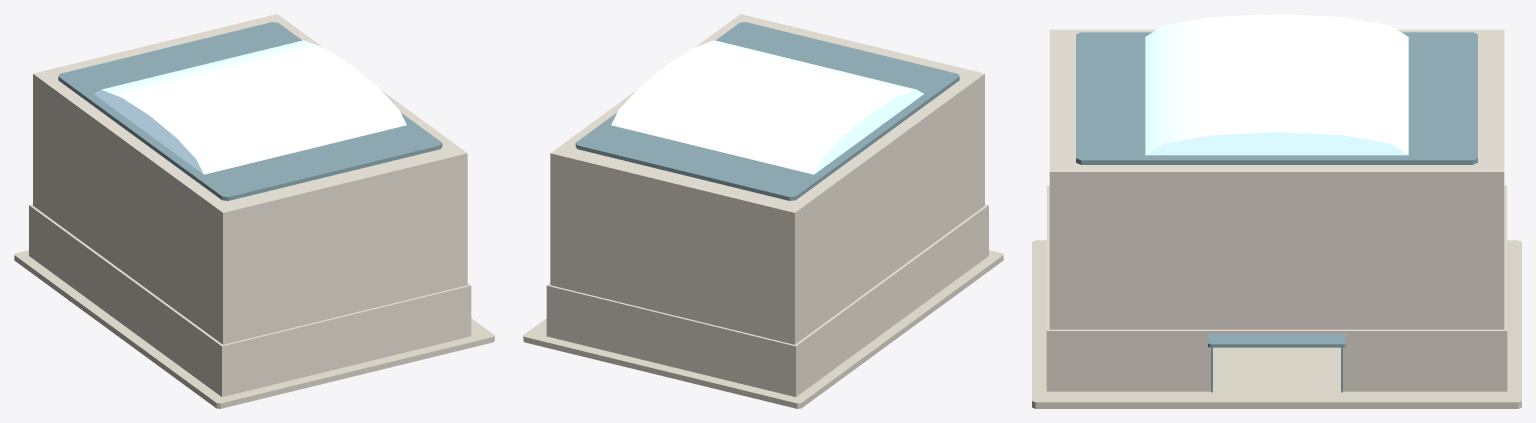
Rendered from Civic_TransitAtrium_4F_v4_ShadowProxy.glb.
3 views of the same model, side by side, from view 1: azimuth 30°, elevation 25°; view 2: azimuth 150°, elevation 25°; view 3: azimuth 270°, elevation 25° (orthographic). The views are drawn at different scales.
Visible parts, largest first — view 1: Civic_TransitAtrium_4F_v4_ShadowProxy / Structure, Civic_TransitAtrium_4F_v4_ShadowProxy / Roof, Civic_TransitAtrium_4F_v4_ShadowProxy / Foundation; view 2: Civic_TransitAtrium_4F_v4_ShadowProxy / Structure, Civic_TransitAtrium_4F_v4_ShadowProxy / Roof, Civic_TransitAtrium_4F_v4_ShadowProxy / Foundation; view 3: Civic_TransitAtrium_4F_v4_ShadowProxy / Structure, Civic_TransitAtrium_4F_v4_ShadowProxy / Roof, Civic_TransitAtrium_4F_v4_ShadowProxy / Foundation, Civic_TransitAtrium_4F_v4_ShadowProxy / Entrance modules.
Boxes of the visible parts, box(x1,y1,x2,y2) form: Civic_TransitAtrium_4F_v4_ShadowProxy / Structure: box(29, 14, 471, 396); Civic_TransitAtrium_4F_v4_ShadowProxy / Roof: box(58, 22, 442, 200); Civic_TransitAtrium_4F_v4_ShadowProxy / Foundation: box(14, 250, 494, 408); Civic_TransitAtrium_4F_v4_ShadowProxy / Structure: box(546, 14, 988, 396); Civic_TransitAtrium_4F_v4_ShadowProxy / Roof: box(575, 22, 959, 200); Civic_TransitAtrium_4F_v4_ShadowProxy / Foundation: box(523, 250, 1003, 408); Civic_TransitAtrium_4F_v4_ShadowProxy / Structure: box(1046, 29, 1507, 391); Civic_TransitAtrium_4F_v4_ShadowProxy / Roof: box(1076, 14, 1477, 164); Civic_TransitAtrium_4F_v4_ShadowProxy / Foundation: box(1032, 240, 1521, 408); Civic_TransitAtrium_4F_v4_ShadowProxy / Entrance modules: box(1208, 333, 1345, 405).
Size of the model in its own units: 18 by 13.08 by 23.
